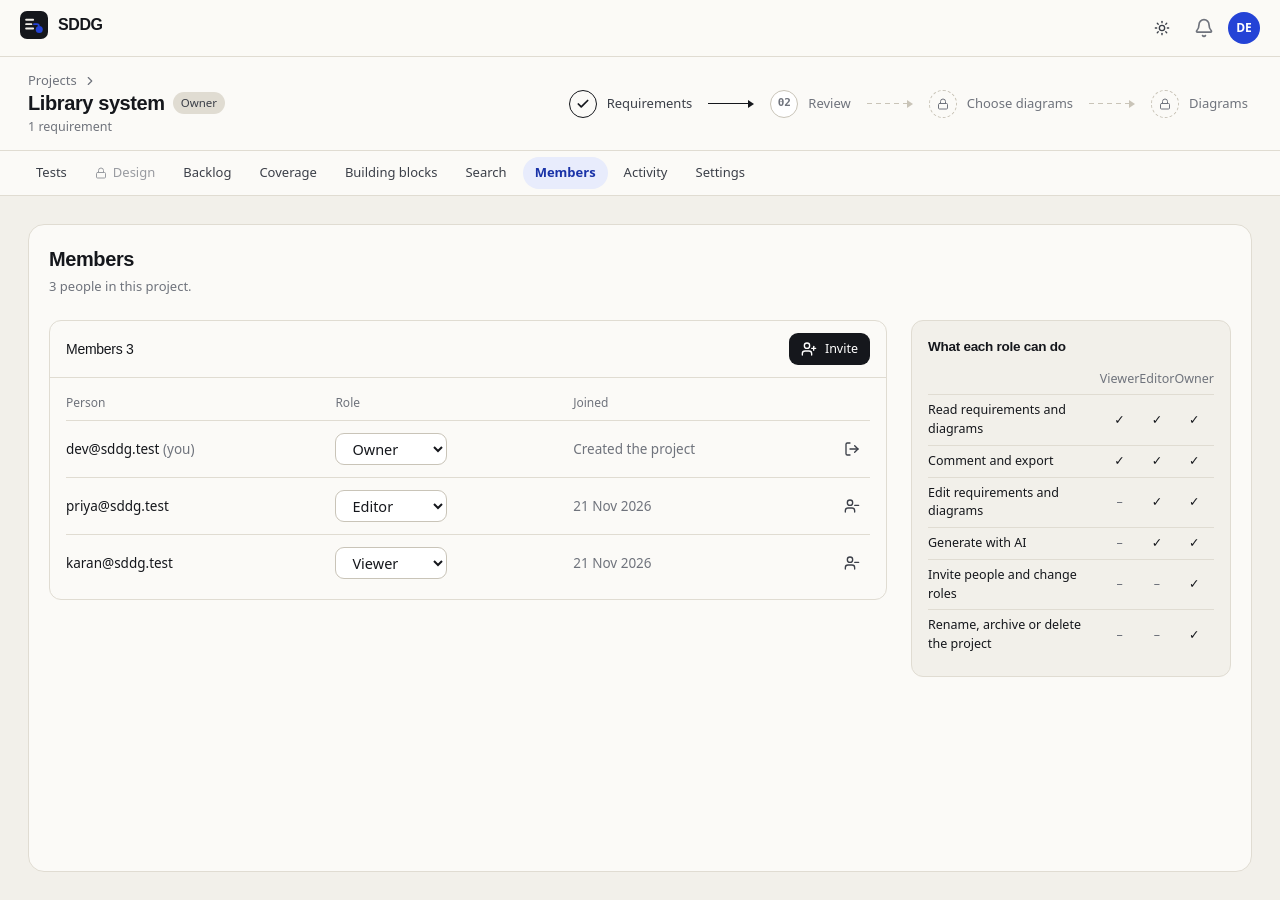
Test: Members page › removes a member after confirming
Click the button named "Remove priya@sddg.test".
click(852, 506)  # box [834, 488, 870, 524]
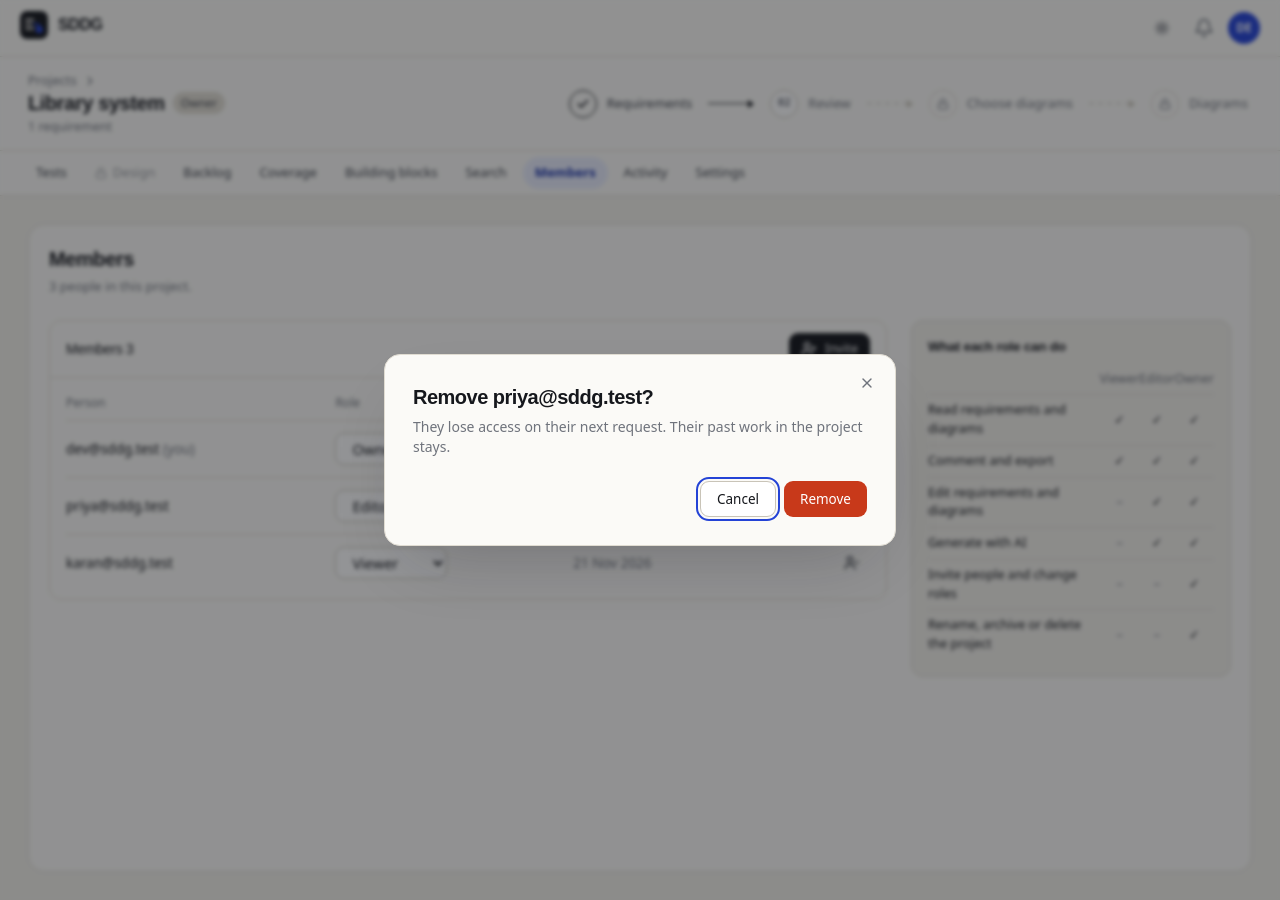
Now the heading "Remove priya@sddg.test?" is shown, box [413, 386, 653, 408]
Click the button "Remove".
click(826, 499)  # box [784, 481, 867, 517]
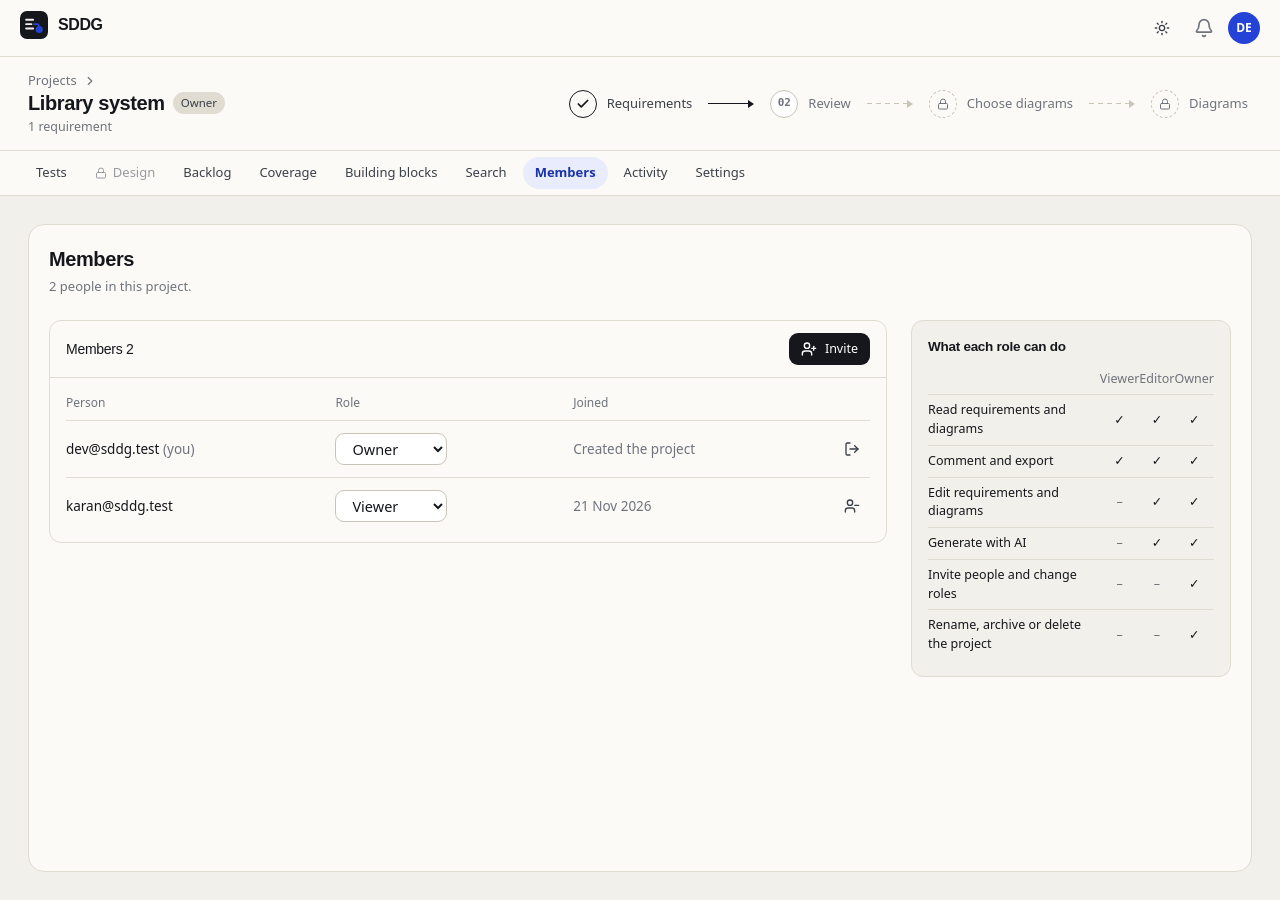
Now the text "priya@sddg.test" is gone
